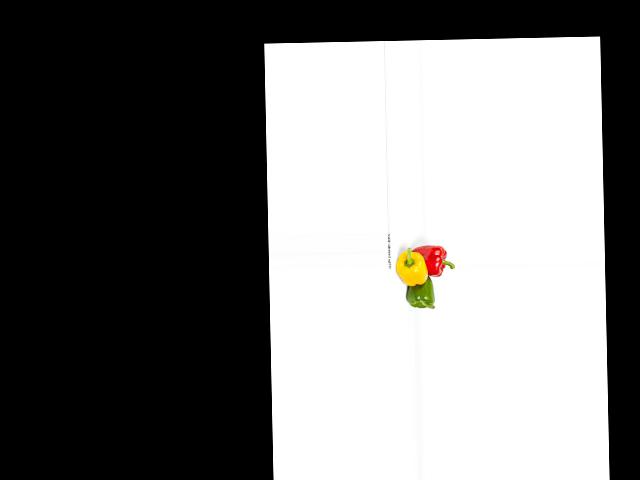bell_pepper: (414, 241, 454, 277)
